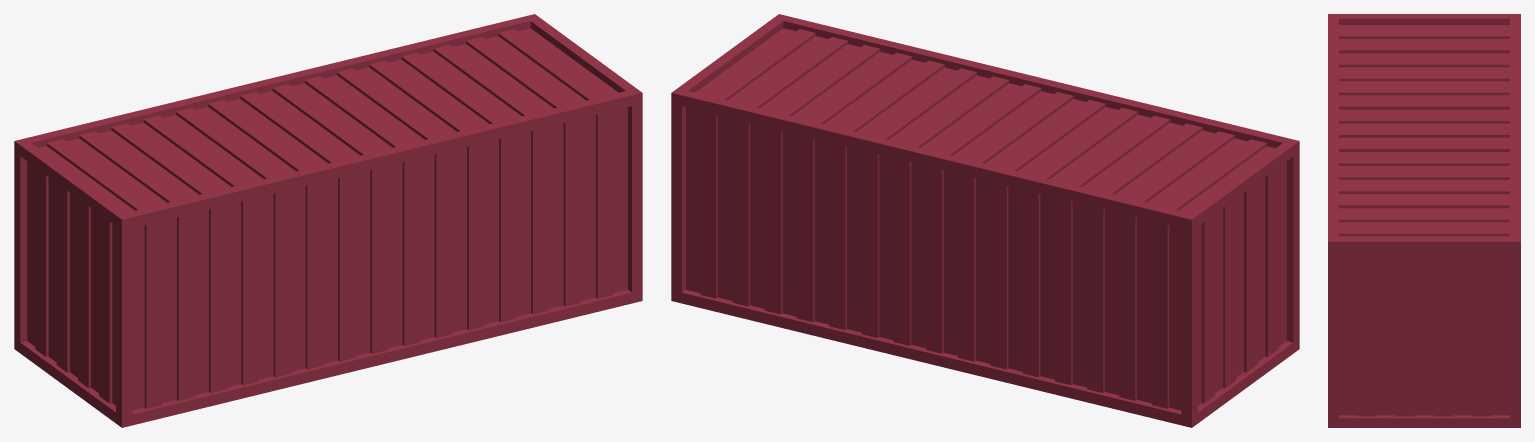
The model's file is Shipping Container_Container.fbx.
3 renders of one model, left to right at view 1: azimuth 30°, elevation 25°; view 2: azimuth 150°, elevation 25°; view 3: azimuth 270°, elevation 25°, orthographic. The views are drawn at different scales.
Visible parts, largest first — view 1: Cube.001; view 2: Cube.001; view 3: Cube.001.
Part boxes in pixels (x1,y1,x2,y2): Cube.001: (14, 14, 642, 427); Cube.001: (671, 14, 1299, 427); Cube.001: (1328, 14, 1520, 427).
Bounding box in the file's own units: 490 × 187 × 176.
